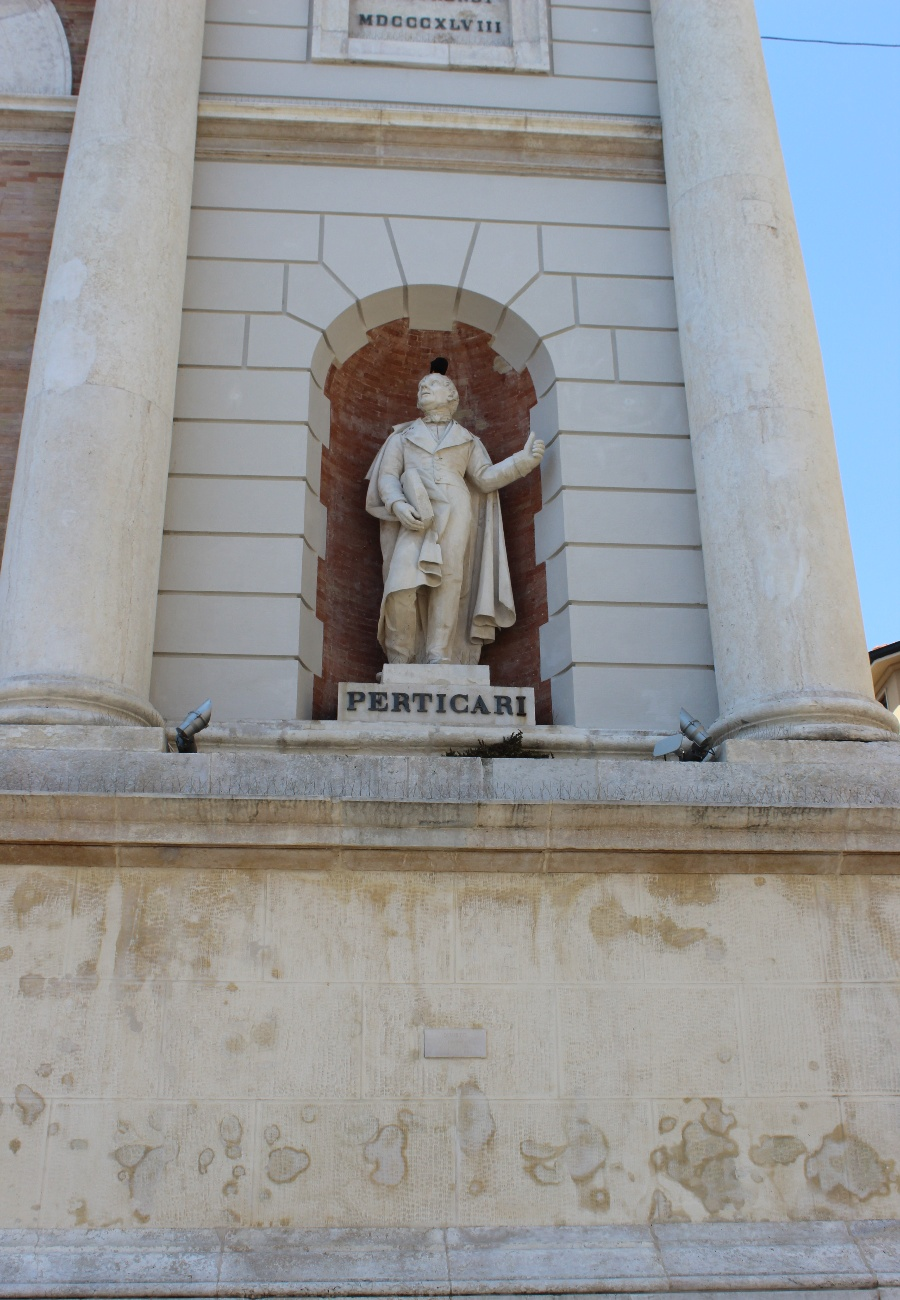Giulio Perticari: (302, 279, 583, 743)
